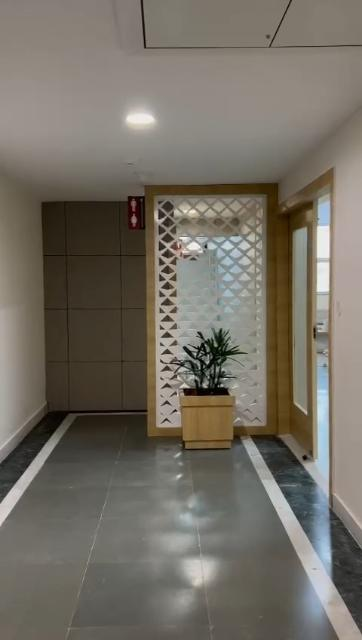door: (275, 197, 337, 478)
floor: (0, 412, 362, 640)
object: (178, 322, 237, 453)
wall: (0, 165, 44, 413), (336, 129, 362, 501)
